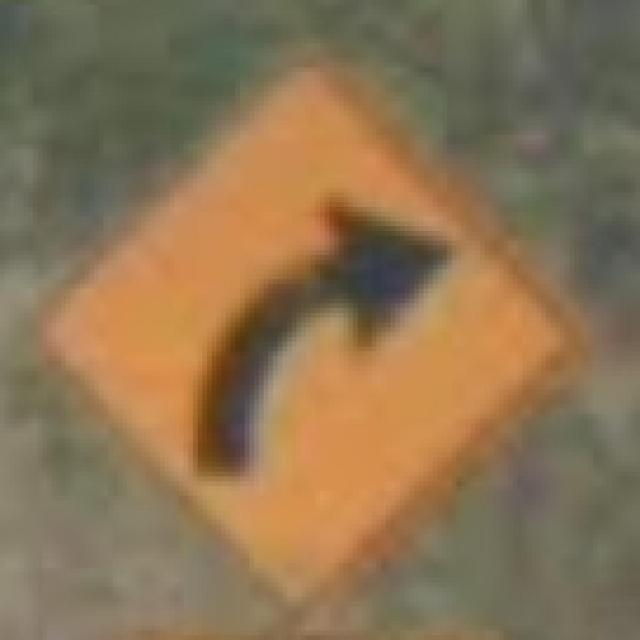Tikungan Ke Kanan: (28, 39, 579, 612)
